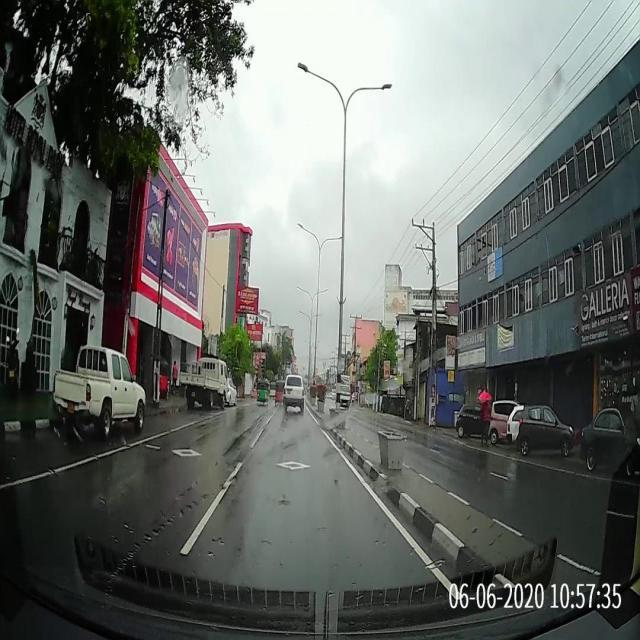Liniya 1: (316, 422, 450, 587), (178, 460, 245, 555), (0, 445, 130, 493), (128, 432, 170, 447), (169, 420, 199, 432), (249, 427, 265, 448)
Liniya 2: (145, 443, 161, 450)
Romb: (277, 455, 309, 470), (175, 446, 200, 459)
